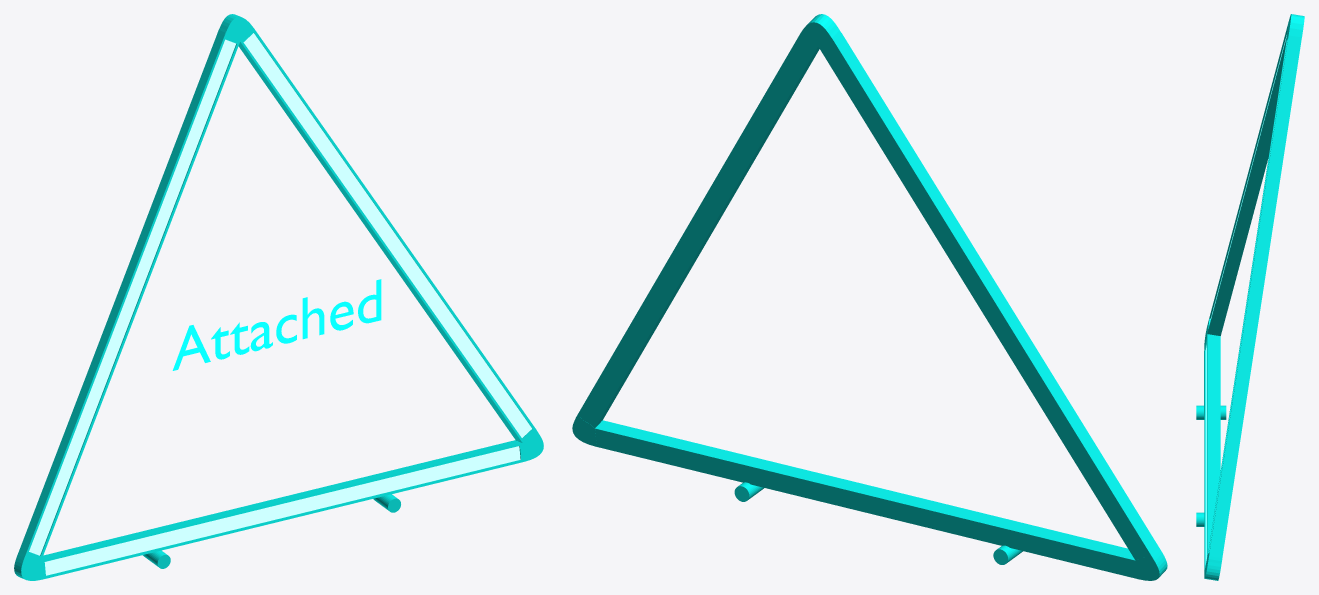
Rendered from triangle-light.glb.
3 renders of one model, left to right at view 1: azimuth 30°, elevation 25°; view 2: azimuth 150°, elevation 25°; view 3: azimuth 270°, elevation 25°, orthographic. The views are drawn at different scales.
Parts seen in each view (by area): view 1: Segment_2, Segment_3, Segment_1, Text.002; view 2: Segment_2, Segment_3, Segment_1, BezierCurve.002; view 3: Segment_1, Segment_2, Segment_3, BezierCurve.001, BezierCurve.002, Cylinder.
Part boxes in pixels (x1,y1,x2,y2): Segment_2: (19, 33, 240, 560); Segment_3: (41, 440, 524, 579); Segment_1: (238, 28, 536, 442); Text.002: (172, 279, 381, 370); Segment_2: (818, 33, 1158, 560); Segment_3: (595, 420, 1137, 578); Segment_1: (577, 33, 819, 427); BezierCurve.002: (801, 14, 841, 46); Segment_1: (1207, 35, 1301, 557); Segment_2: (1207, 22, 1288, 335); Segment_3: (1204, 334, 1220, 572); BezierCurve.001: (1204, 556, 1222, 580); BezierCurve.002: (1287, 14, 1304, 37); Cylinder: (1196, 405, 1226, 419).
Bounding box in the file's own units: 1.51 × 1.34 × 0.285.
